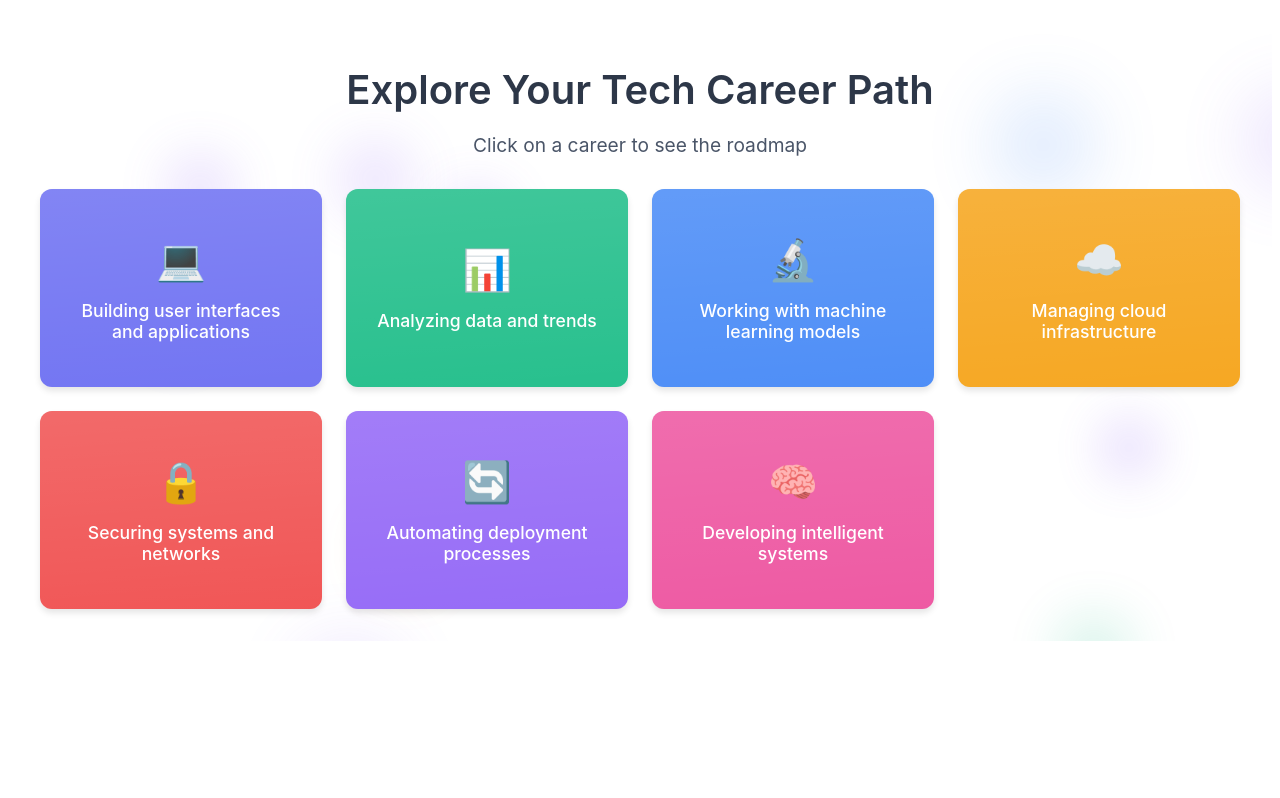
Roadmap Component › shows details when career is clicked
Click the text "Building user interfaces and applications".
click(181, 321)  # box top-left (64, 300), bottom-right (298, 342)
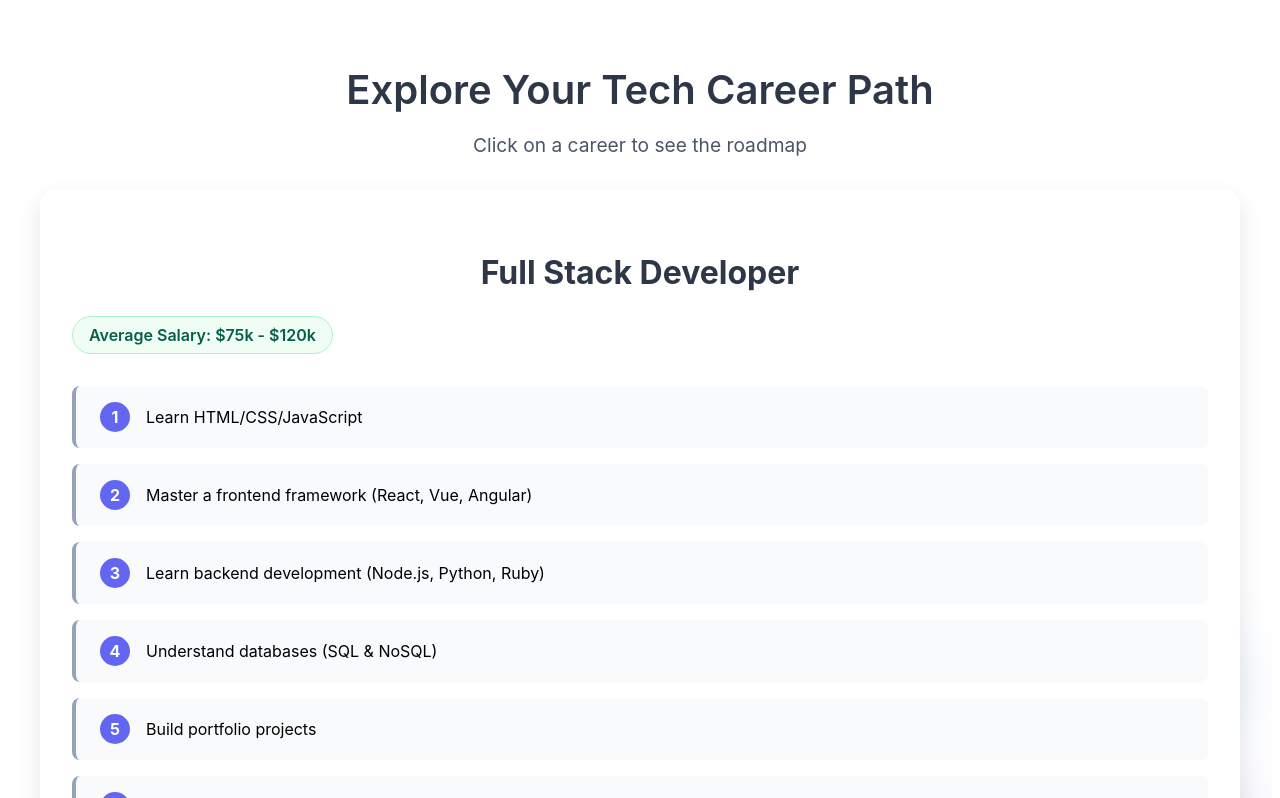
Result: the heading "Full Stack Developer" is shown at top-left (481, 253), bottom-right (799, 292)
